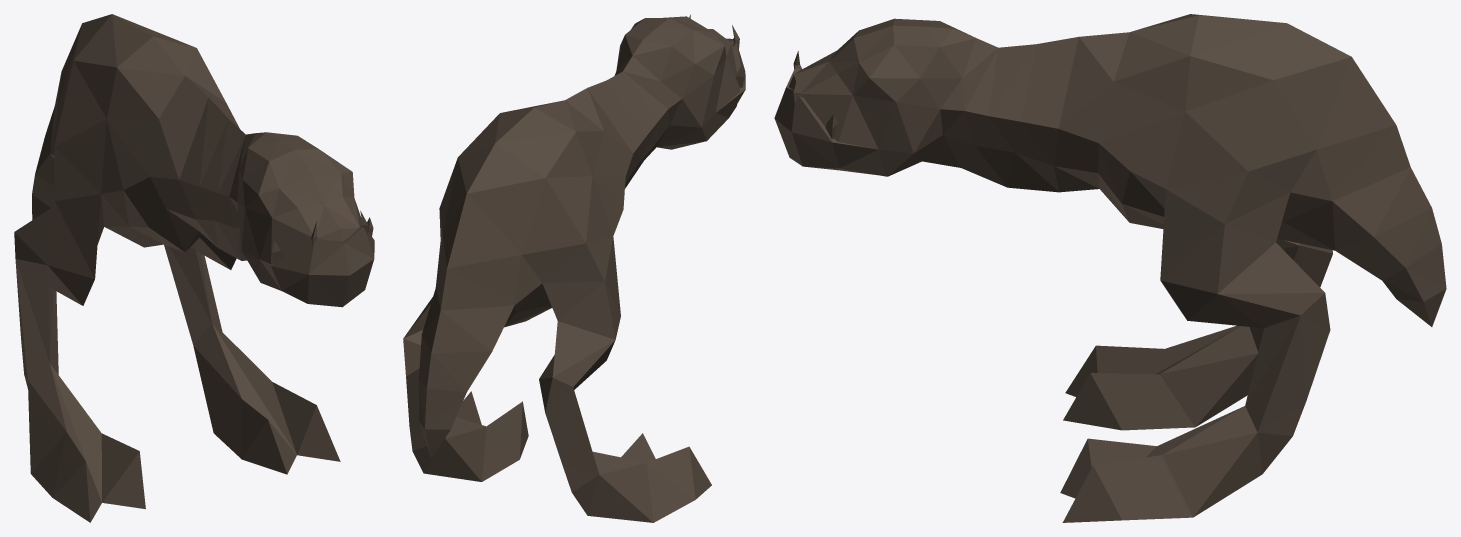
Rendered from SC2_BODY.OBJ.
The picture shows the model from 3 angles, left to right: view 1: azimuth 30°, elevation 25°; view 2: azimuth 150°, elevation 25°; view 3: azimuth 270°, elevation 25°; orthographic projection. The views are drawn at different scales.
Parts seen in each view (by area): view 1: SC2_BODY; view 2: SC2_BODY; view 3: SC2_BODY.
Part boxes in pixels (x1,y1,x2,y2): SC2_BODY: (14,14,374,522); SC2_BODY: (403,14,745,522); SC2_BODY: (774,14,1446,522).
Bounding box in the file's own units: 0.8533 × 1.24 × 1.71.
